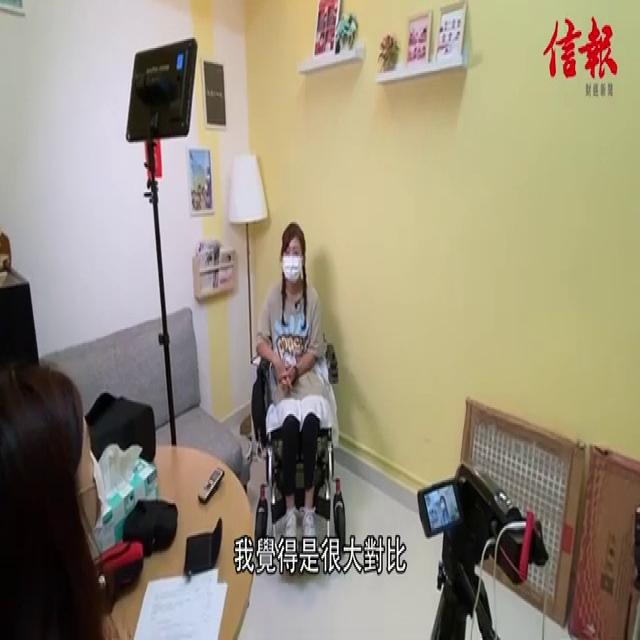wheelchairs: (250, 343, 352, 540)
